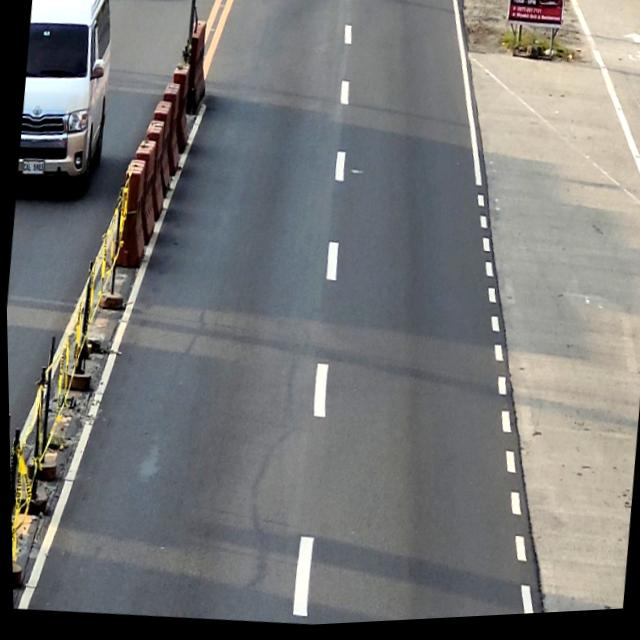Car: (12, 0, 120, 197)
License-Plate: (20, 159, 44, 176)
